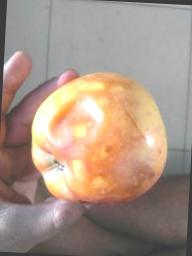Apple Rotten: (24, 66, 174, 210)
